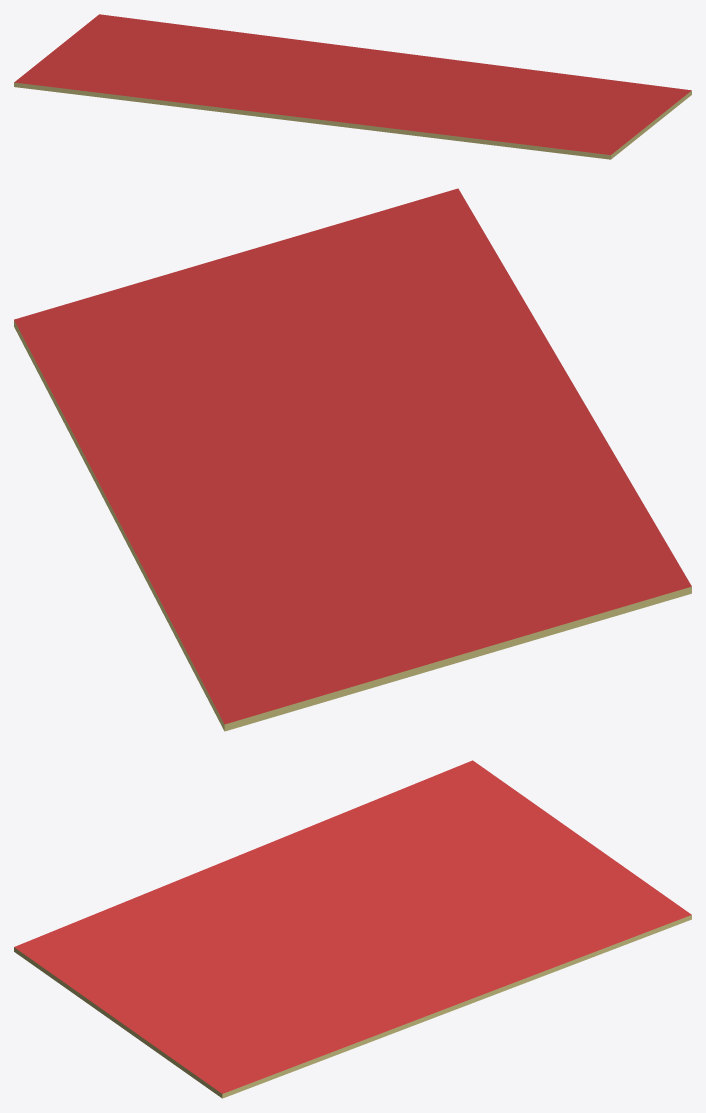
3 renders of one model, top to bottom at view 1: azimuth 30°, elevation 25°; view 2: azimuth 150°, elevation 25°; view 3: azimuth 270°, elevation 25°, orthographic. The views are drawn at different scales.
Bounding box in the file's own units: 12.81 × 13.19 × 1.35.
